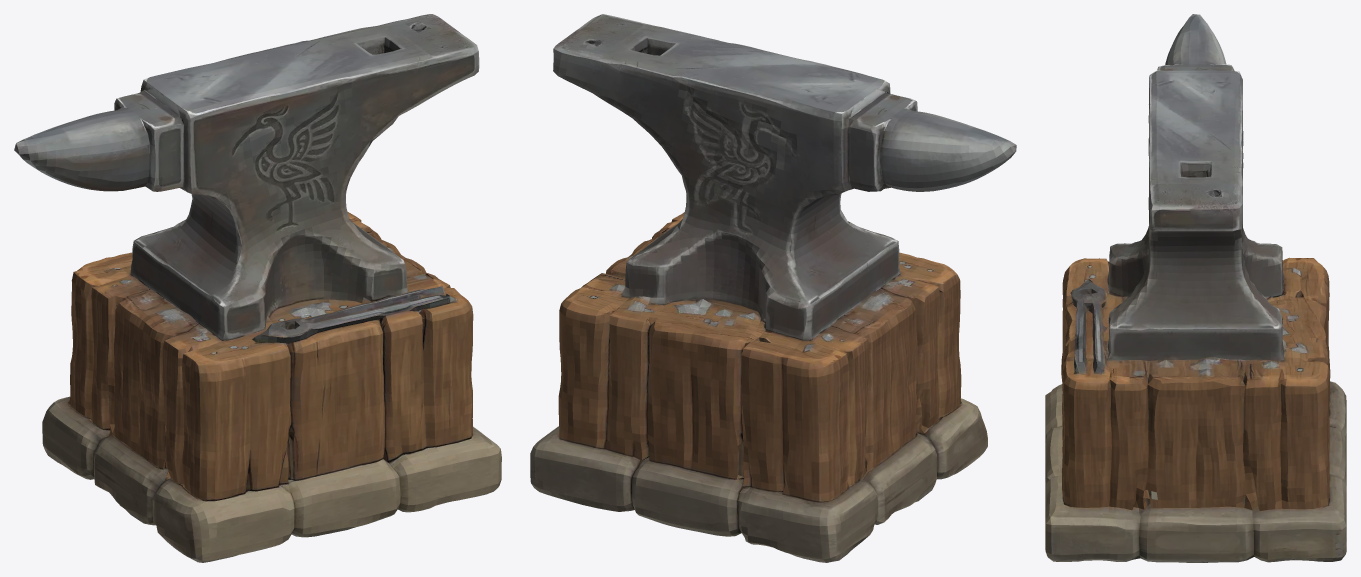
The model's file is Hammer_on_a_Wooden_Bl.glb.
3 views of the same model, side by side, from view 1: azimuth 30°, elevation 25°; view 2: azimuth 150°, elevation 25°; view 3: azimuth 270°, elevation 25° (orthographic). The views are drawn at different scales.
Size of the model in its own units: 1.9 by 1.67 by 1.2.
Materials: 1 (1 with a texture image).
